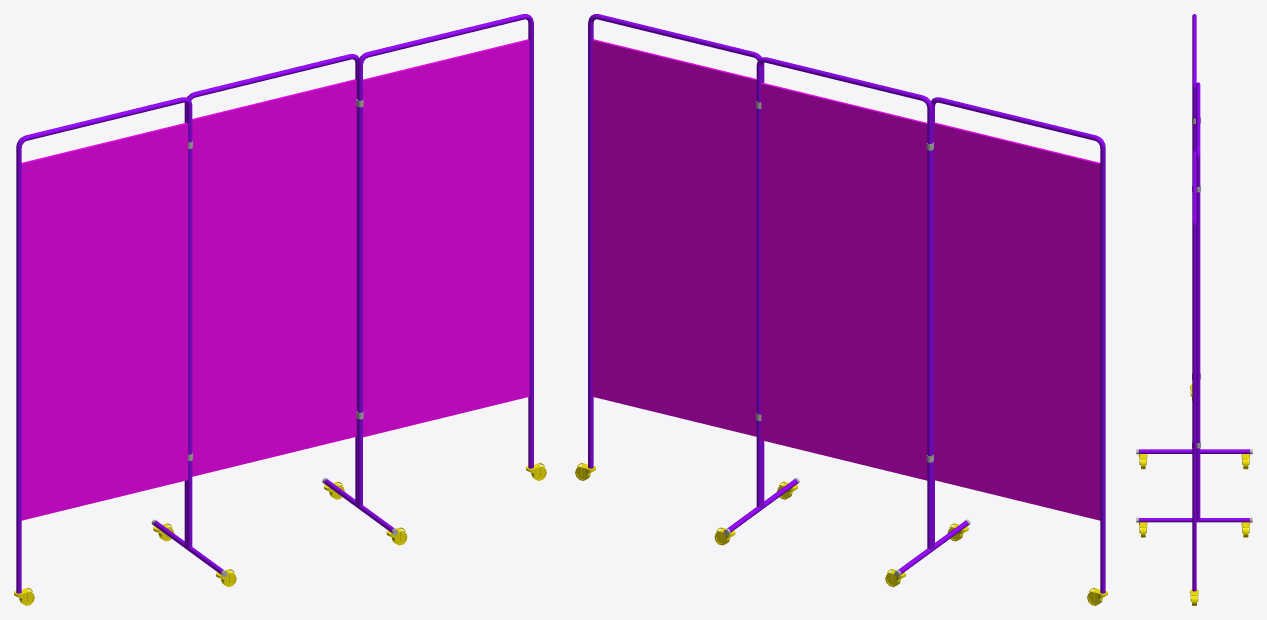
The model's file is Biombo_LowPoly_v1.fbx.
3 renders of one model, left to right at view 1: azimuth 30°, elevation 25°; view 2: azimuth 150°, elevation 25°; view 3: azimuth 270°, elevation 25°, orthographic. The views are drawn at different scales.
Parts seen in each view (by area): view 1: polySurface53, polySurface206, polySurface205, polySurface60, polySurface88, polySurface74; view 2: polySurface53, polySurface205, polySurface206, polySurface74, polySurface60, polySurface88; view 3: polySurface88, polySurface74, polySurface60, polySurface87, polySurface59.
Part boxes in pixels (left/top/right/bottom): polySurface53: left=21, top=122, right=188, bottom=520; polySurface206: left=363, top=39, right=529, bottom=437; polySurface205: left=192, top=79, right=356, bottom=476; polySurface60: left=16, top=97, right=192, bottom=593; polySurface88: left=357, top=14, right=533, bottom=506; polySurface74: left=184, top=54, right=359, bottom=546; polySurface53: left=933, top=122, right=1100, bottom=520; polySurface205: left=760, top=82, right=927, bottom=480; polySurface206: left=592, top=39, right=756, bottom=436; polySurface74: left=756, top=57, right=932, bottom=550; polySurface60: left=931, top=97, right=1105, bottom=593; polySurface88: left=588, top=14, right=764, bottom=506; polySurface88: left=1192, top=151, right=1196, bottom=591; polySurface74: left=1196, top=82, right=1200, bottom=520; polySurface60: left=1192, top=14, right=1196, bottom=151; polySurface87: left=1139, top=518, right=1249, bottom=522; polySurface59: left=1139, top=449, right=1249, bottom=453.
Bounding box in the file's own units: 2.18 × 1.84 × 0.5024.
